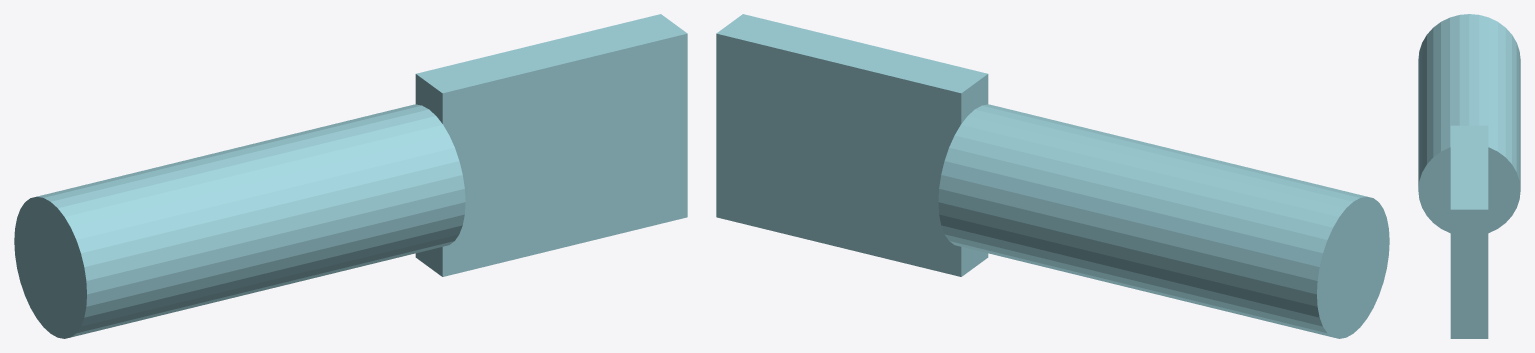
File: cylinder_spatula_v6012.obj
3 renders of one model, left to right at view 1: azimuth 30°, elevation 25°; view 2: azimuth 150°, elevation 25°; view 3: azimuth 270°, elevation 25°, orthographic. The views are drawn at different scales.
Size of the model in its own units: 0.2455 by 0.0691 by 0.0496.
1 material, 1 textured.
